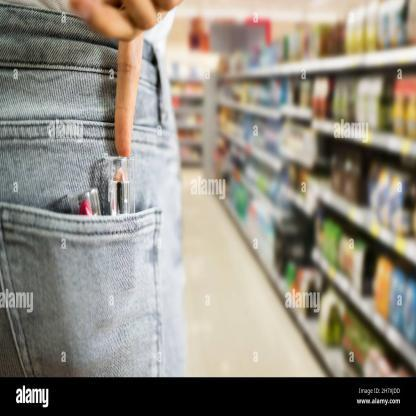Shoplifting: (28, 11, 294, 372)
